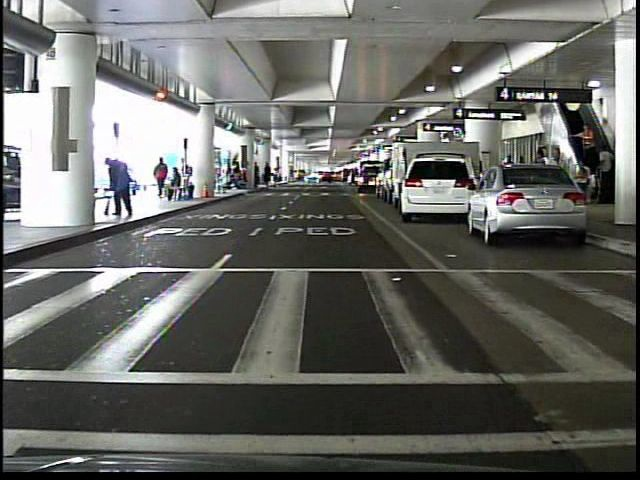person: (103, 151, 138, 221), (574, 119, 600, 169), (596, 142, 615, 195)
